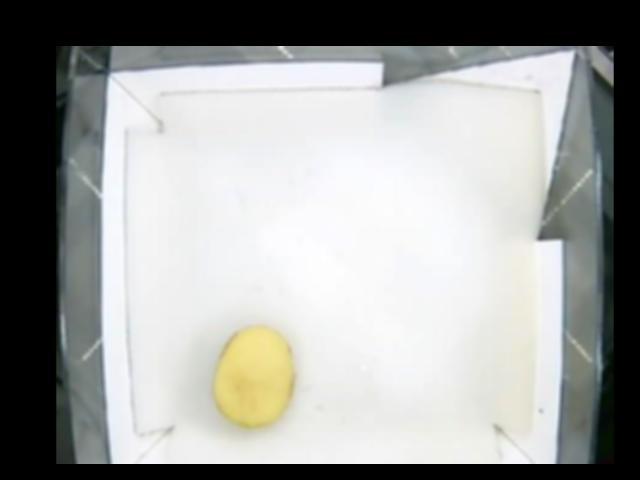Potato: (212, 324, 296, 429)
